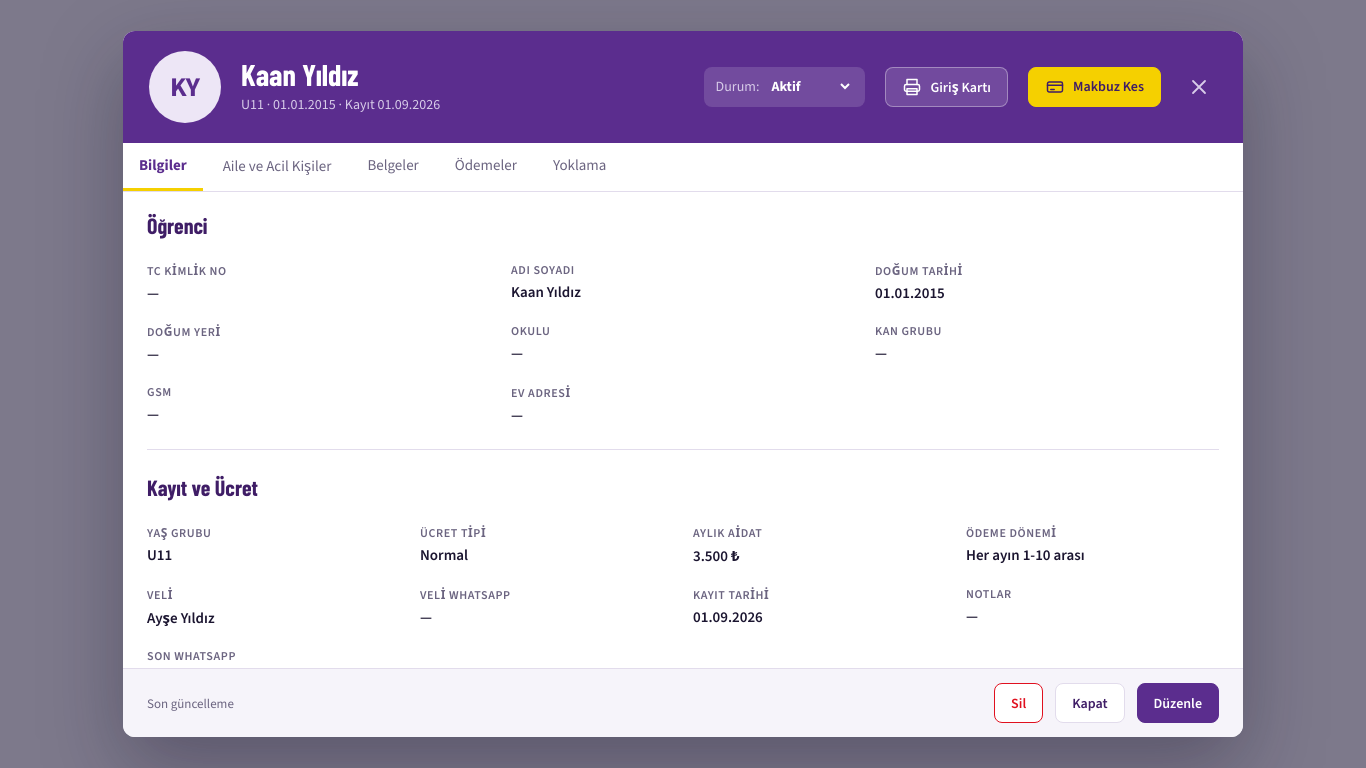
Test case: Oyuncu kartı › basım kaydı › Giriş Kartı basınca tek kayıt düşer ve şerit görünür; yönetici 'Basılmadı say' ile son kaydı siler
The image size is (1366, 768).
Click the button "Giriş Kartı": (947, 87) [885,67,1008,107]
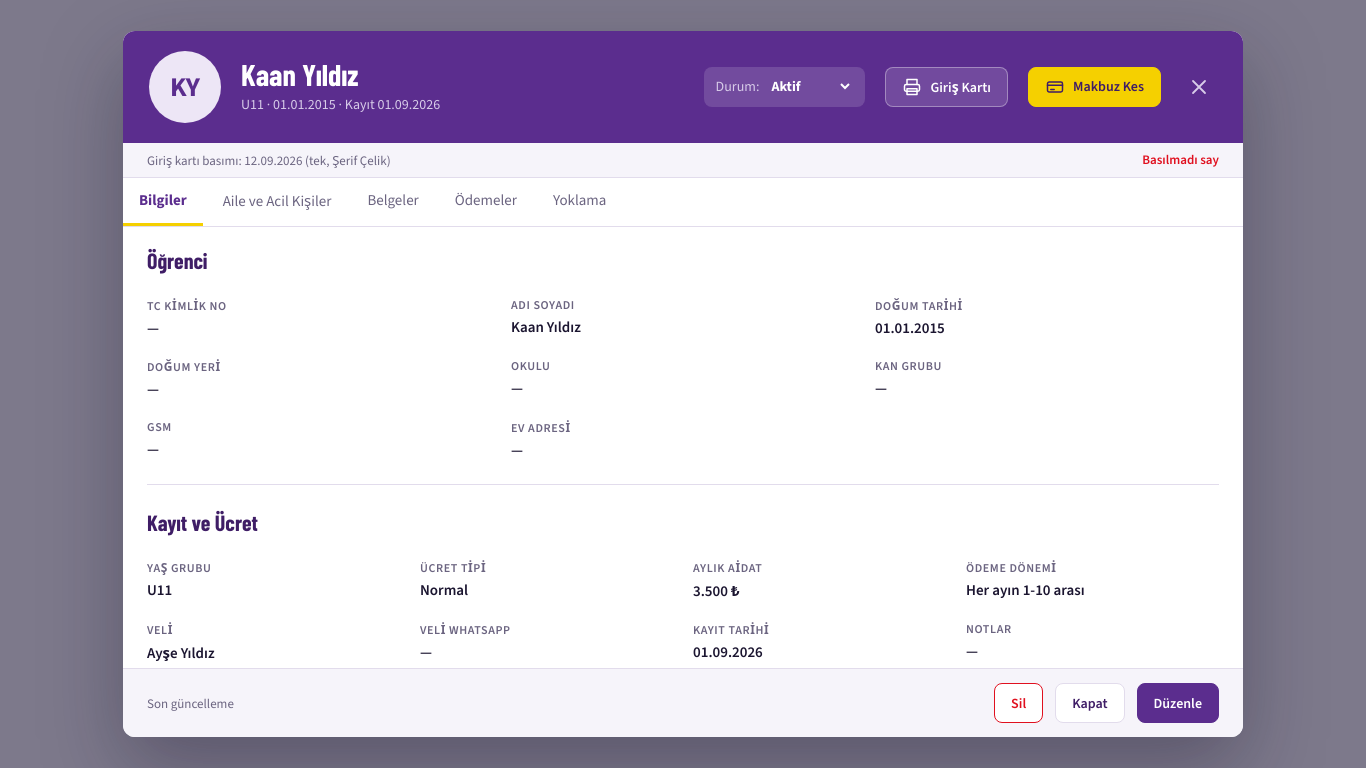
Result: the element with test id "kart-basim-seridi" shows "12.09.2026 (tek, Şerif Çelik)" at [244,152,391,169]
Click the button "Basılmadı say": (1181, 160) [1142,151,1219,168]
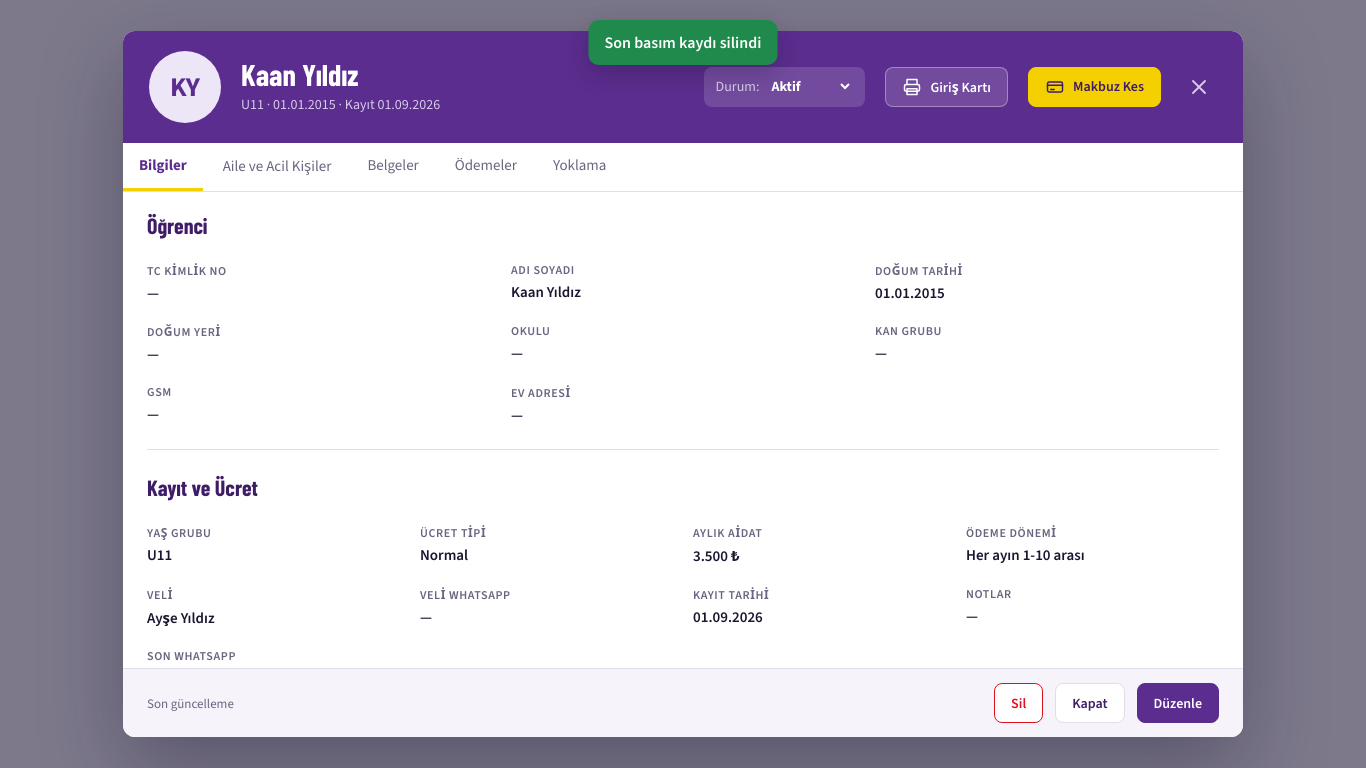
Result: the element with test id "kart-basim-seridi" is gone
